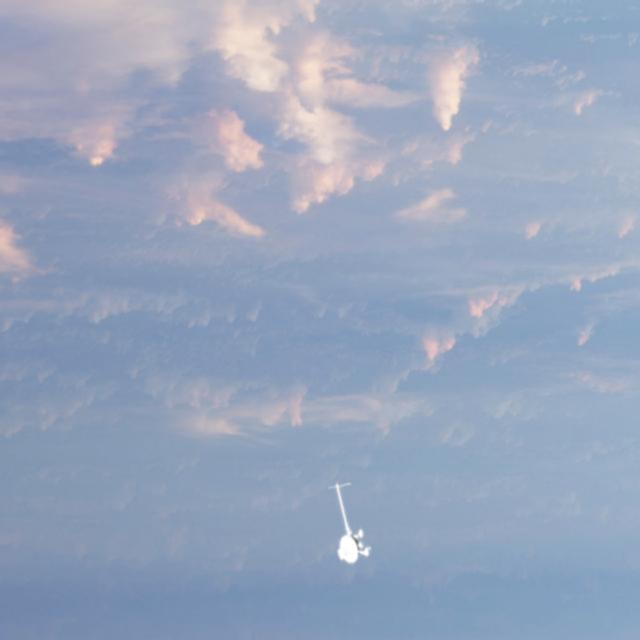satellite: (320, 467, 388, 576)
